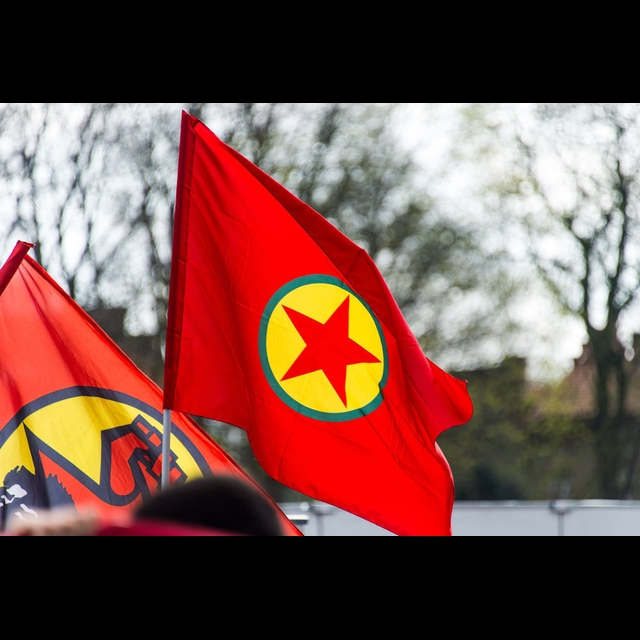PKK: (260, 271, 393, 420)
